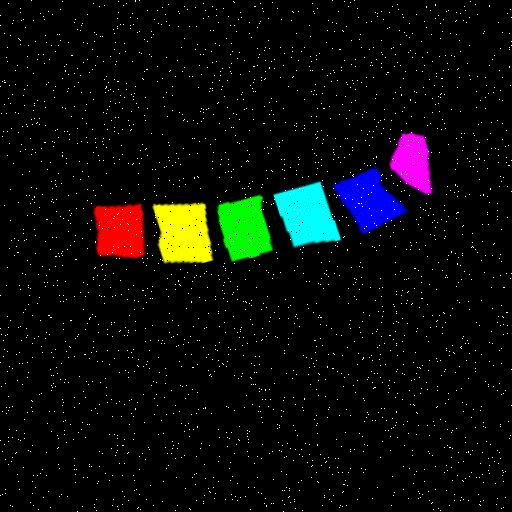L1: (91, 202, 141, 257)
L2: (151, 202, 209, 260)
L3: (215, 195, 270, 261)
L4: (272, 182, 335, 247)
L5: (332, 168, 401, 233)
S1: (386, 133, 428, 195)
